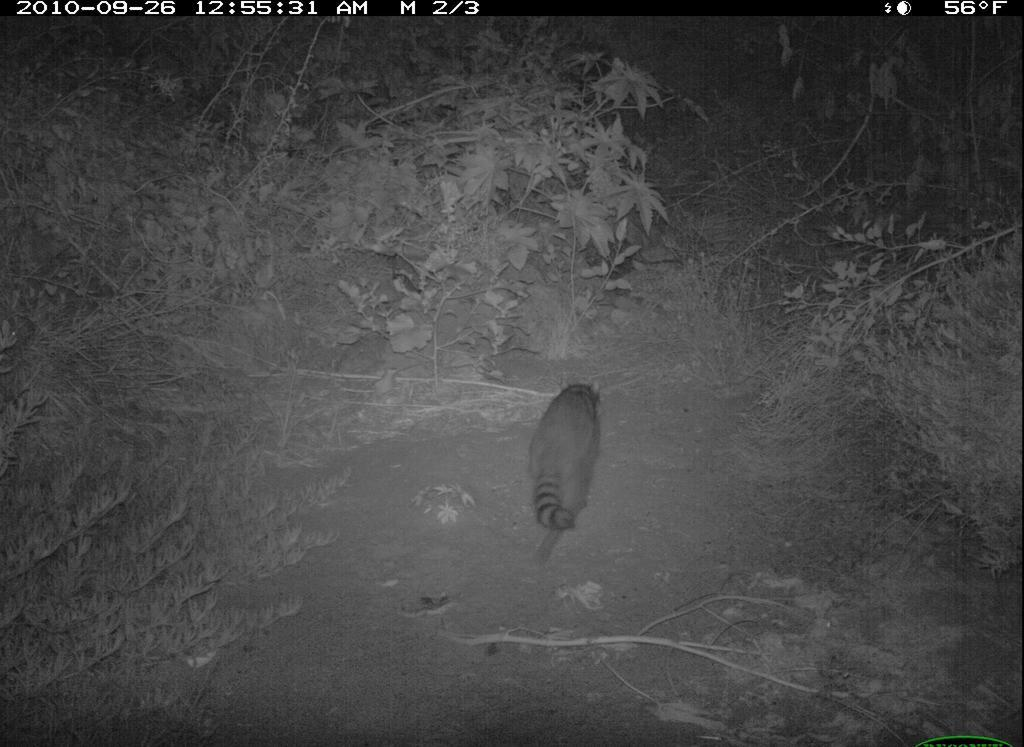raccoon: (519, 359, 623, 569)
